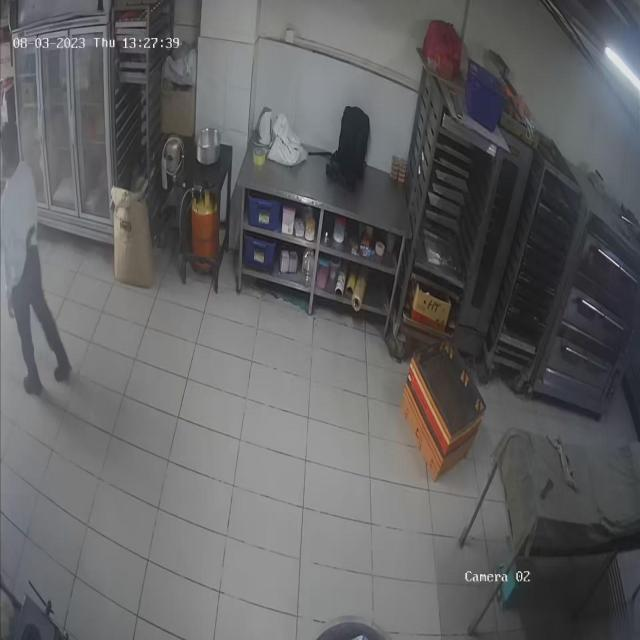Gun: (19, 218, 54, 258)
